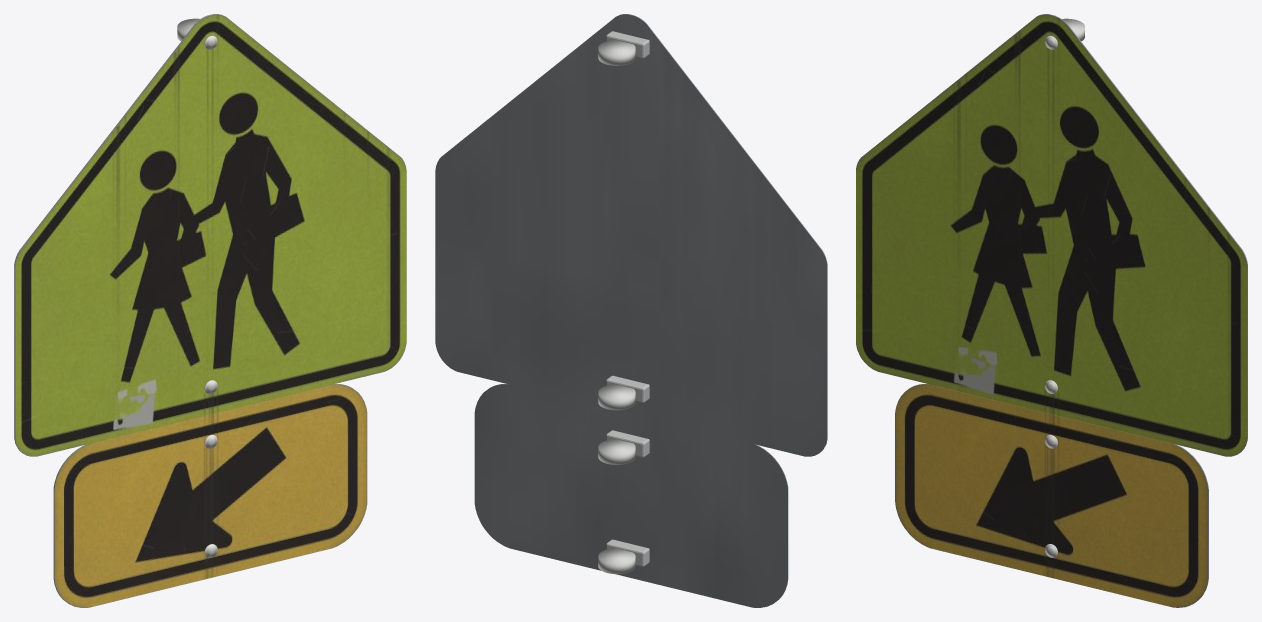
Rendered from school-v1.glb.
3 views of the same model, side by side, from view 1: azimuth 30°, elevation 25°; view 2: azimuth 150°, elevation 25°; view 3: azimuth 330°, elevation 25° (orthographic).
Visible parts, largest first — view 1: school-v1; view 2: school-v1; view 3: school-v1.
Part boxes in pixels (bbox=[...]): school-v1: bbox=[14, 14, 406, 607]; school-v1: bbox=[435, 14, 827, 607]; school-v1: bbox=[856, 14, 1247, 607].
Size of the model in its own units: 0.762 by 1.05 by 0.0871.
1 material, 1 textured.
